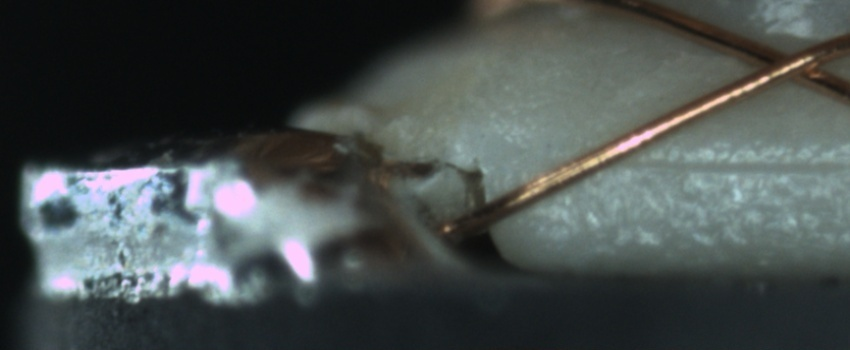CL: (735, 31, 840, 93)
DL: (575, 131, 843, 197)
